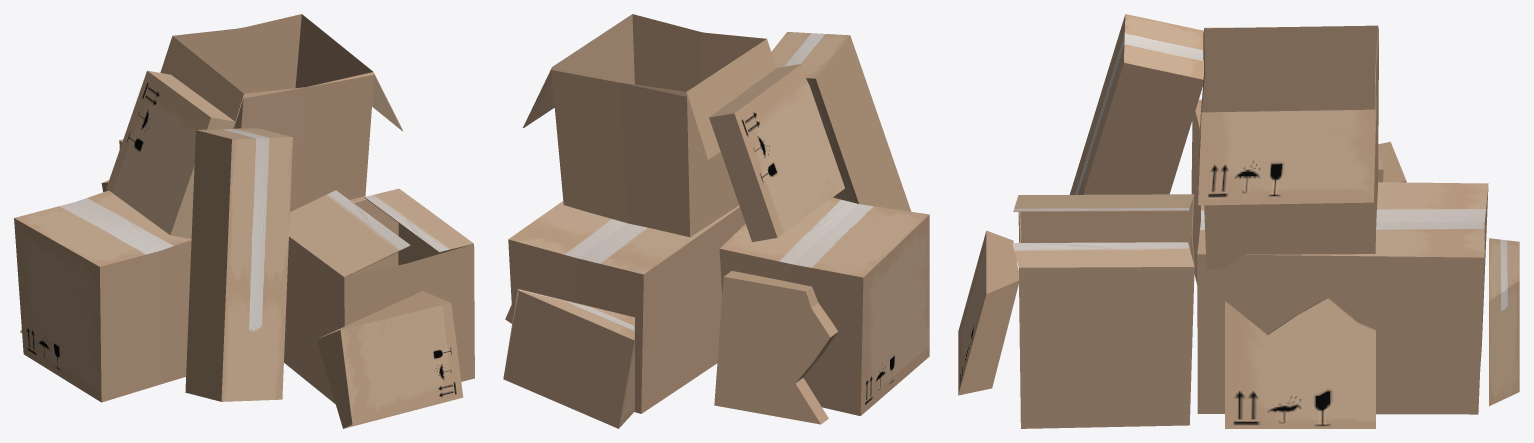
Rendered from Pilon de cajas.fbx.
3 renders of one model, left to right at view 1: azimuth 30°, elevation 25°; view 2: azimuth 150°, elevation 25°; view 3: azimuth 270°, elevation 25°, orthographic. The views are drawn at different scales.
Parts seen in each view (by area): view 1: Box.003; view 2: Box.003; view 3: Box.003.
Boxes of the visible parts, box(x1,y1,x2,y2) form: Box.003: box(14, 14, 474, 428); Box.003: box(503, 14, 929, 428); Box.003: box(958, 14, 1519, 428).
Bounding box in the file's own units: 443 × 348 × 545.
